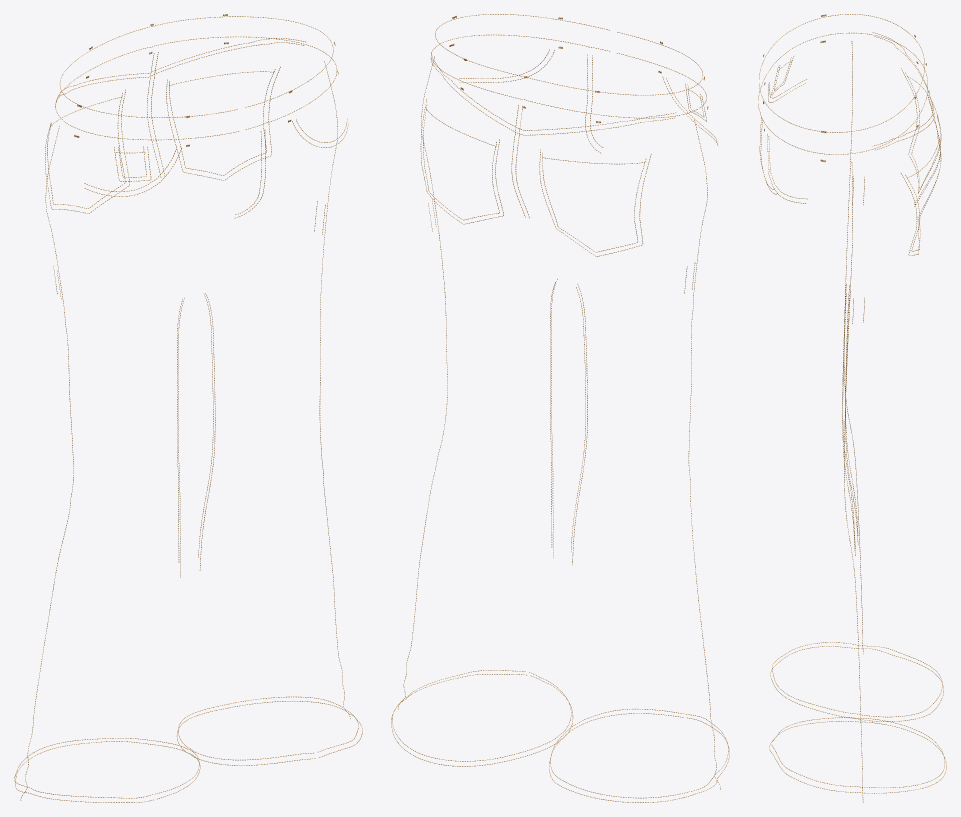
The model's file is 25_vaquero_flare_costuras.glb.
3 renders of one model, left to right at view 1: azimuth 30°, elevation 25°; view 2: azimuth 150°, elevation 25°; view 3: azimuth 270°, elevation 25°, orthographic. The views are drawn at different scales.
Parts seen in each view (by area): view 1: stitch; view 2: stitch; view 3: stitch.
Part boxes in pixels (box(x1,y1,x2,y2)): stitch: box(14, 14, 362, 802); stitch: box(391, 14, 729, 802); stitch: box(758, 14, 946, 802).
Bounding box in the file's own units: 0.4737 × 0.98 × 0.251.
